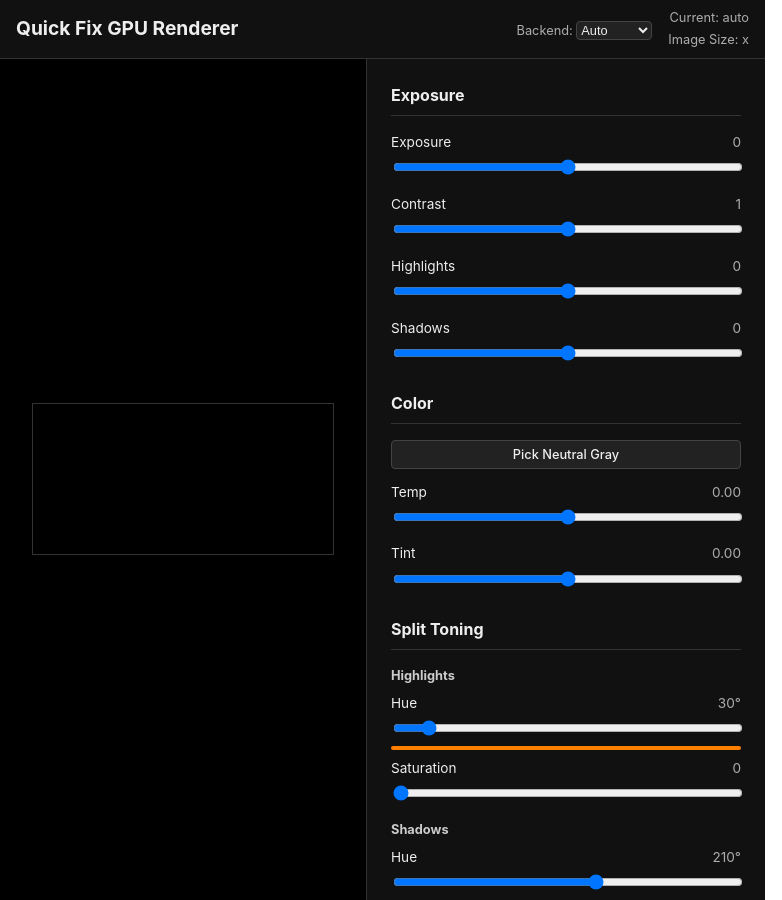
Test case: App Integration › cancels picker when rotation changes
The width and height of the screenshot is (782, 900).
Expected: the text "Backend:" is shown, [517, 23, 576, 38]
Note: Enable picker
Click the button "Pick Neutral Gray": coordinates (566, 454) [391, 440, 741, 469]
(page scrolled)
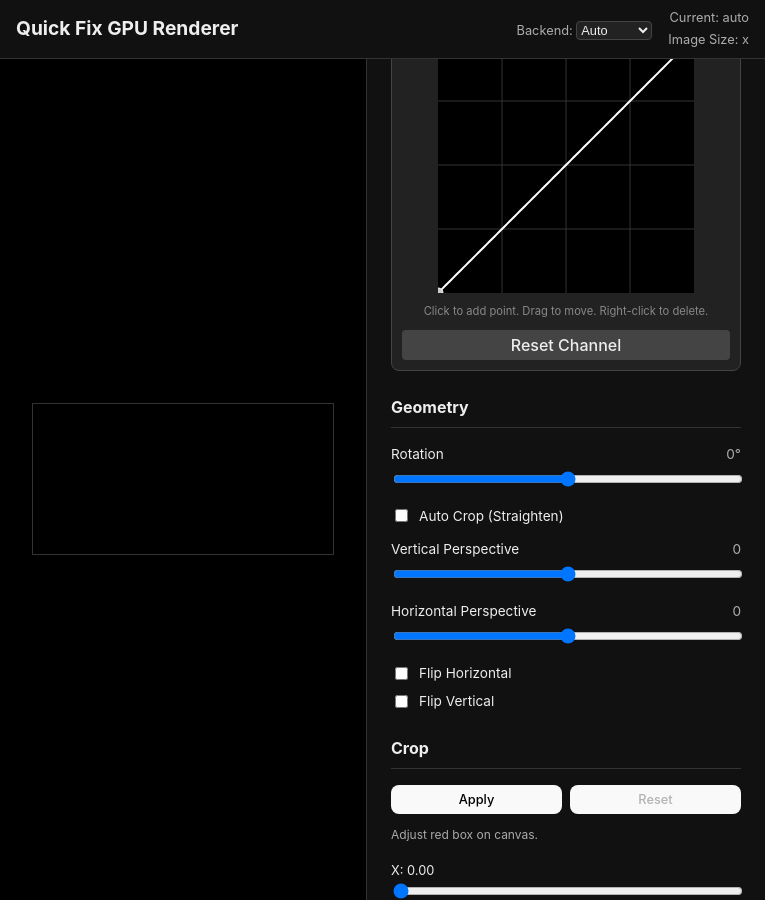
Note: Change rotation
Set the slider with test id "rotation-slider" to "5": coordinates (587, 479) [393, 471, 743, 487]
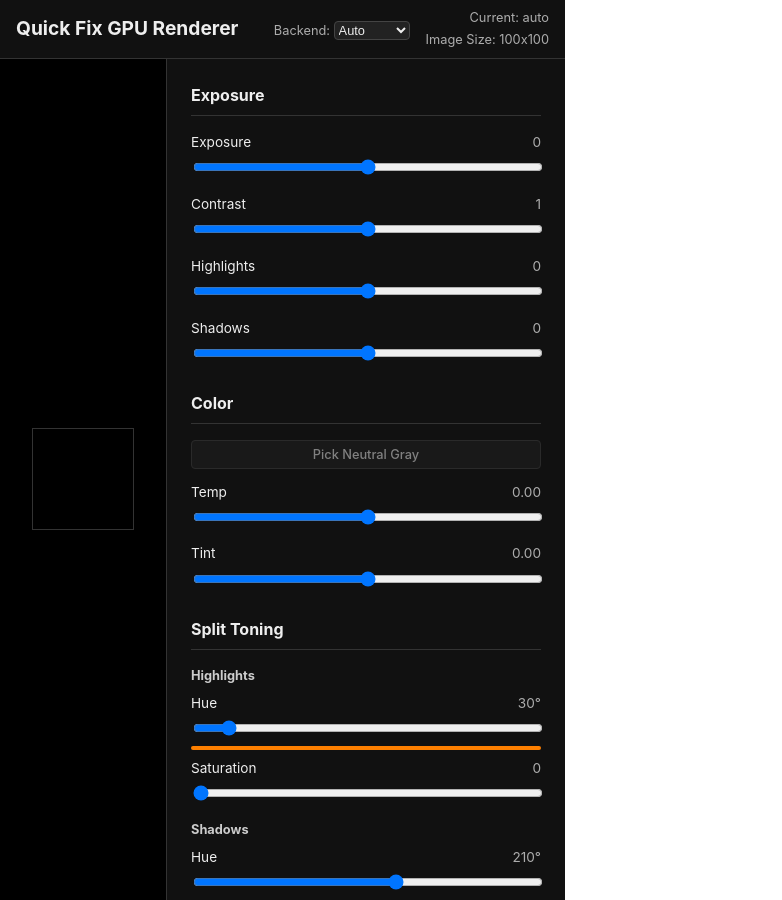
Now the button "Pick Neutral Gray" is shown, box [191, 440, 541, 469]
Now the button "Pick Neutral Gray" is disabled, box [191, 440, 541, 469]
